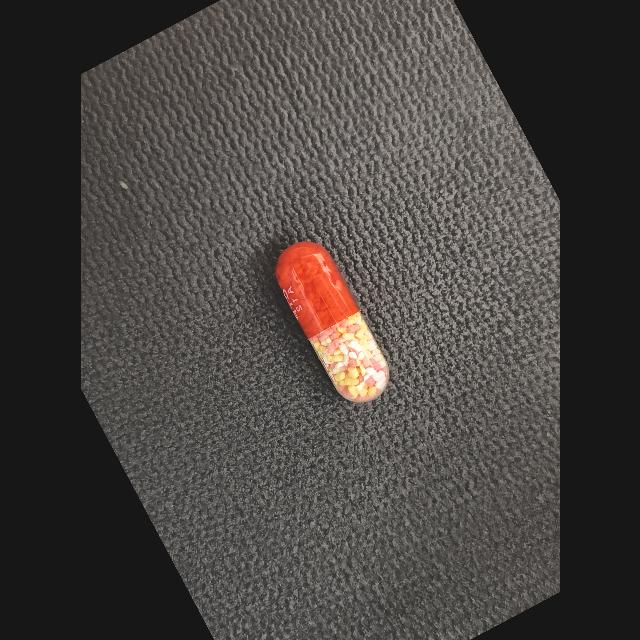Intact Capsule: (275, 242, 389, 403)
